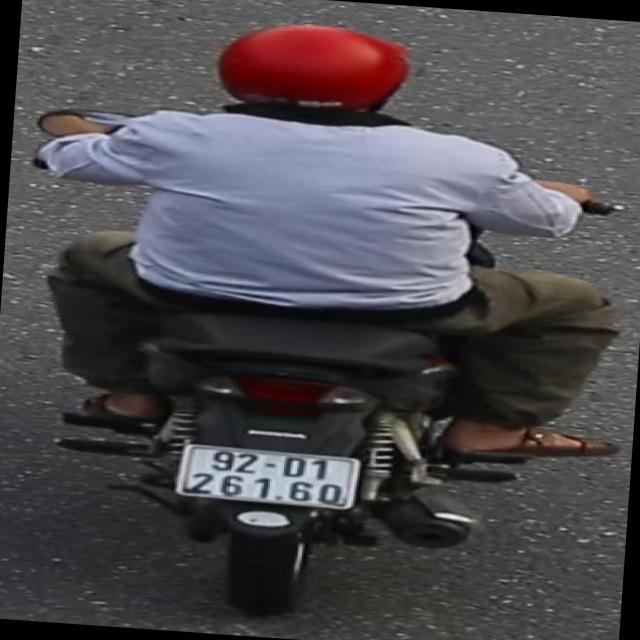LP: (166, 438, 368, 516)
helmet: (196, 14, 447, 136)
